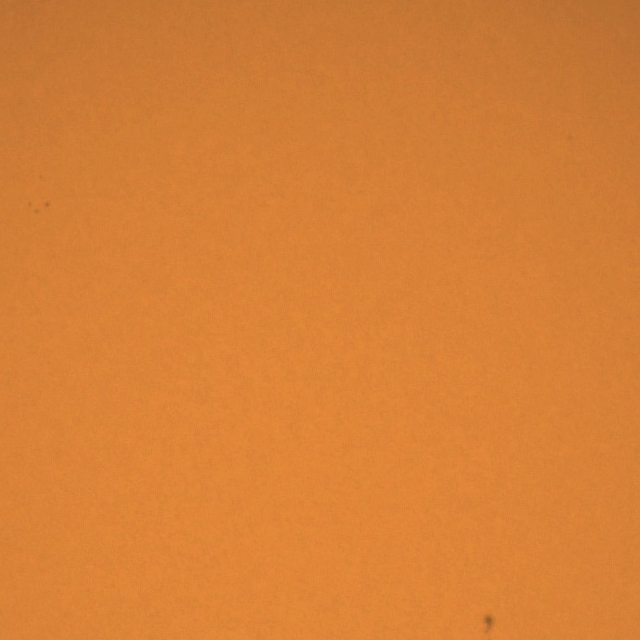sunspot: (27, 199, 51, 215), (481, 613, 496, 637)
